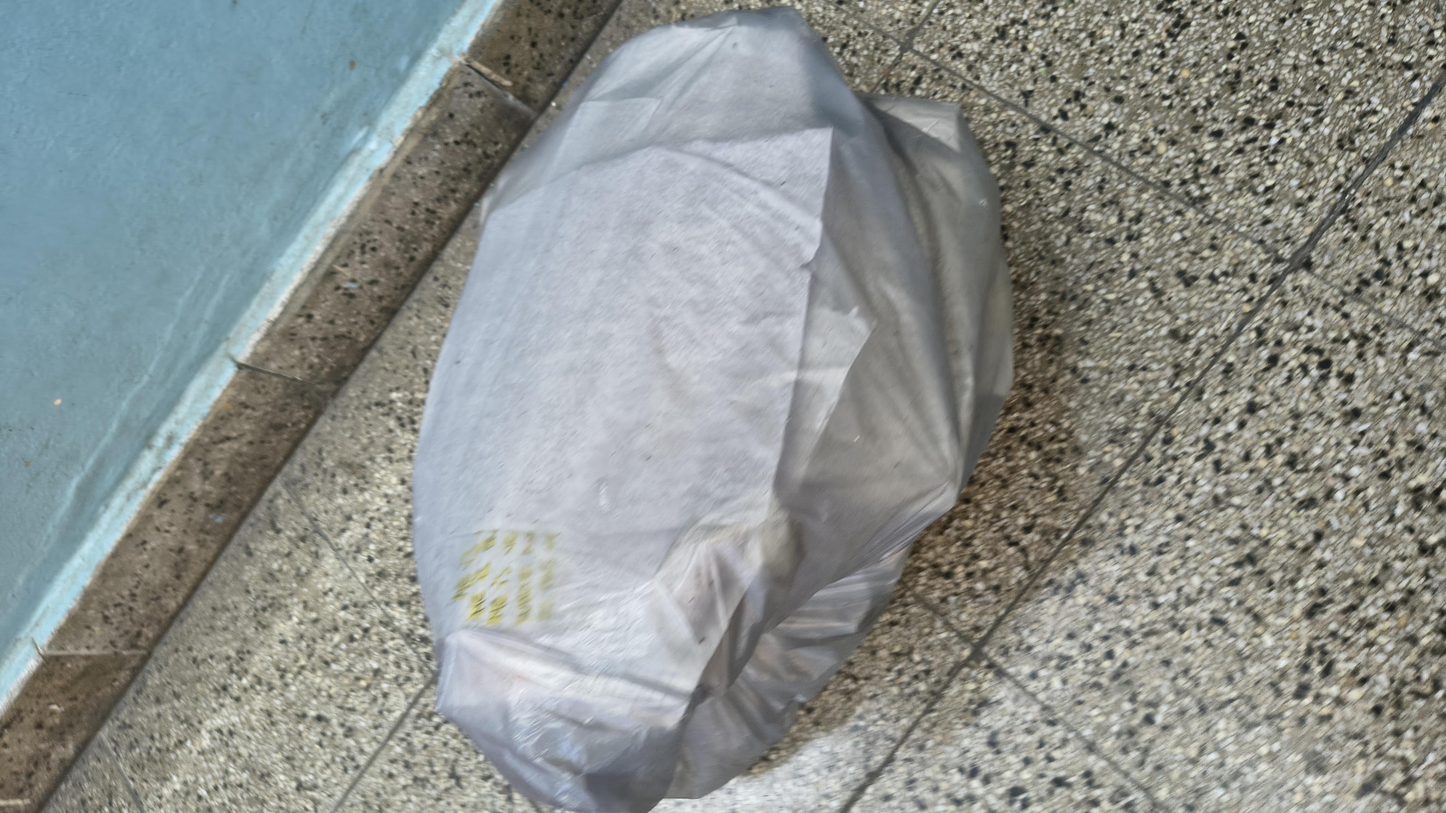Garbage: (0, 197, 1446, 591)
